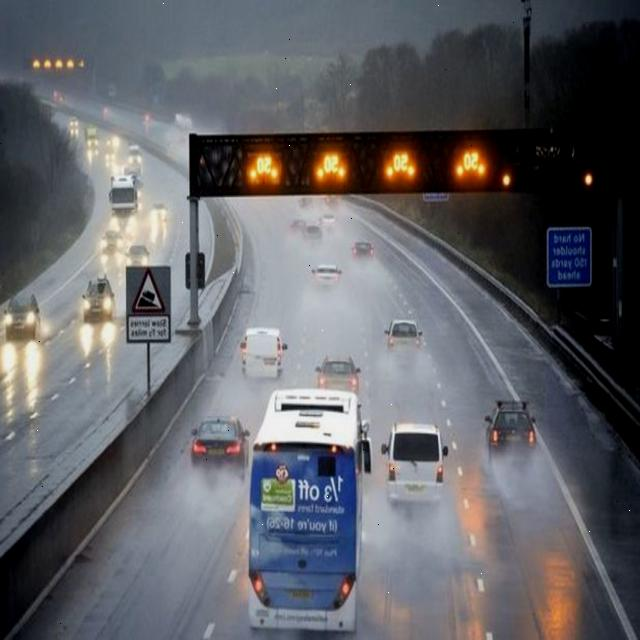Bus: (244, 396, 368, 630)
Car: (381, 420, 448, 506), (190, 415, 250, 479), (482, 398, 538, 466), (241, 326, 287, 380), (315, 354, 361, 396), (5, 292, 43, 341), (81, 275, 115, 323), (384, 317, 424, 353), (311, 262, 343, 288), (126, 244, 150, 268), (101, 228, 123, 254), (127, 144, 143, 172), (350, 240, 374, 258), (124, 168, 142, 187), (105, 135, 121, 156), (304, 223, 323, 240), (85, 124, 99, 146), (151, 203, 167, 221), (290, 218, 308, 234), (85, 139, 99, 159), (319, 214, 336, 229), (68, 117, 79, 136), (106, 158, 118, 174), (143, 112, 153, 128), (324, 196, 338, 207), (53, 90, 64, 103), (101, 105, 110, 120), (298, 197, 310, 208)
Truck: (108, 174, 140, 216)
